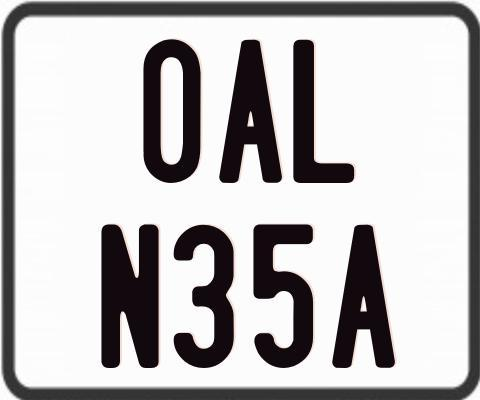0: (143, 37, 203, 187)
3: (174, 223, 234, 370)
5: (253, 221, 314, 368)
A: (331, 222, 400, 369), (218, 37, 284, 183)
L: (292, 40, 358, 188)
N: (101, 224, 165, 368)
